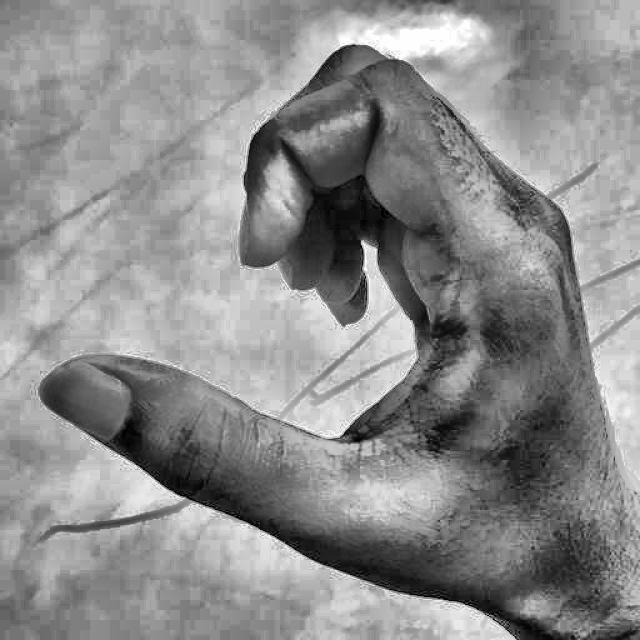Kha: (27, 17, 618, 617)
